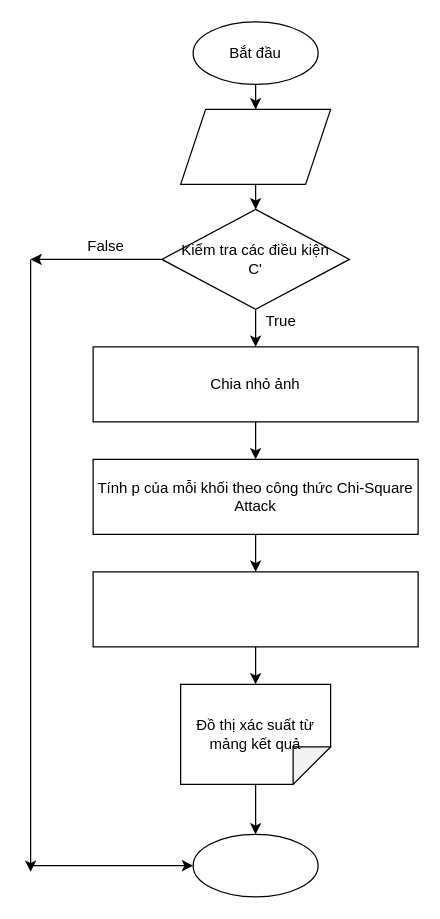
This 440x919 diagram has some shape labels left out. The box of each missing label's shape, as (x1, y1, x2, y2) in pixels:
cho p vào mảng kết quả: (92, 571, 418, 647)
Chọn ảnh C': (179, 108, 331, 184)
Kết thúc: (192, 833, 318, 897)
